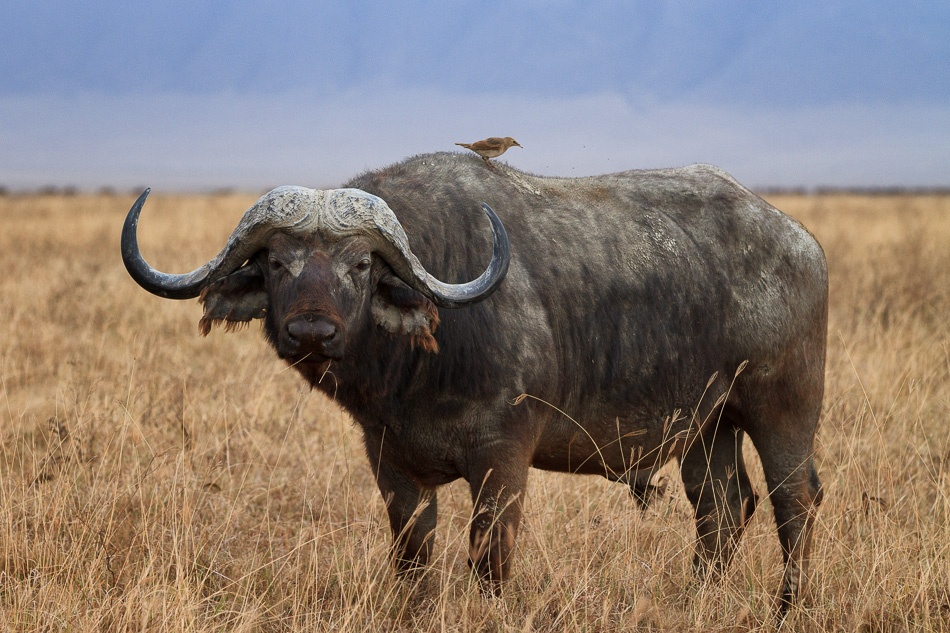buffalo: (119, 146, 833, 598)
